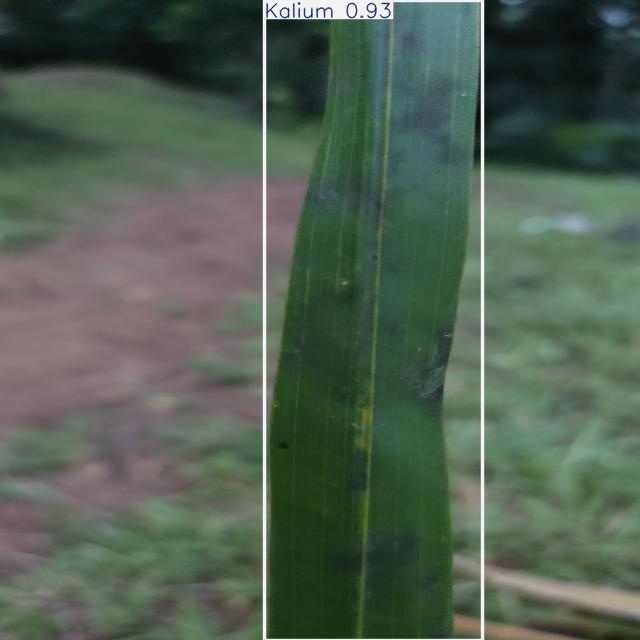Kalium: (265, 0, 483, 640)
